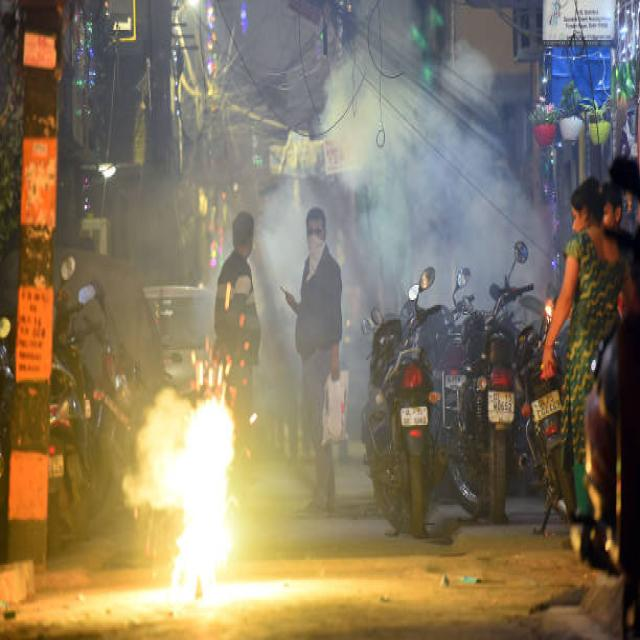fire: (148, 399, 236, 605)
